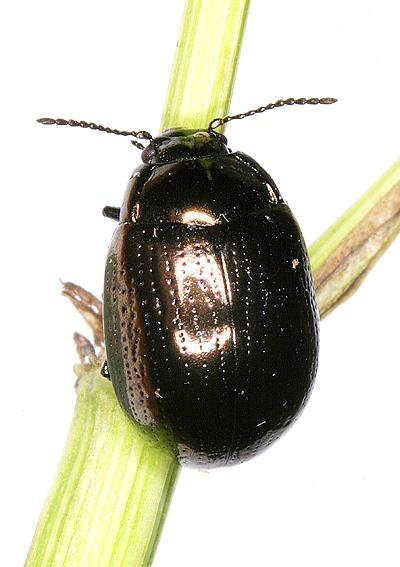Chrysolina_oricalcia: (27, 93, 353, 476)
